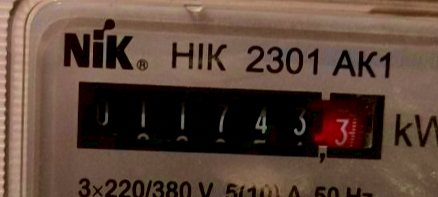0: (91, 92, 111, 129)
1: (174, 95, 190, 130), (137, 94, 148, 128)
3: (288, 102, 308, 137), (332, 115, 351, 149)
4: (251, 101, 269, 135)
7: (212, 99, 231, 133)
screen: (61, 68, 398, 172)
